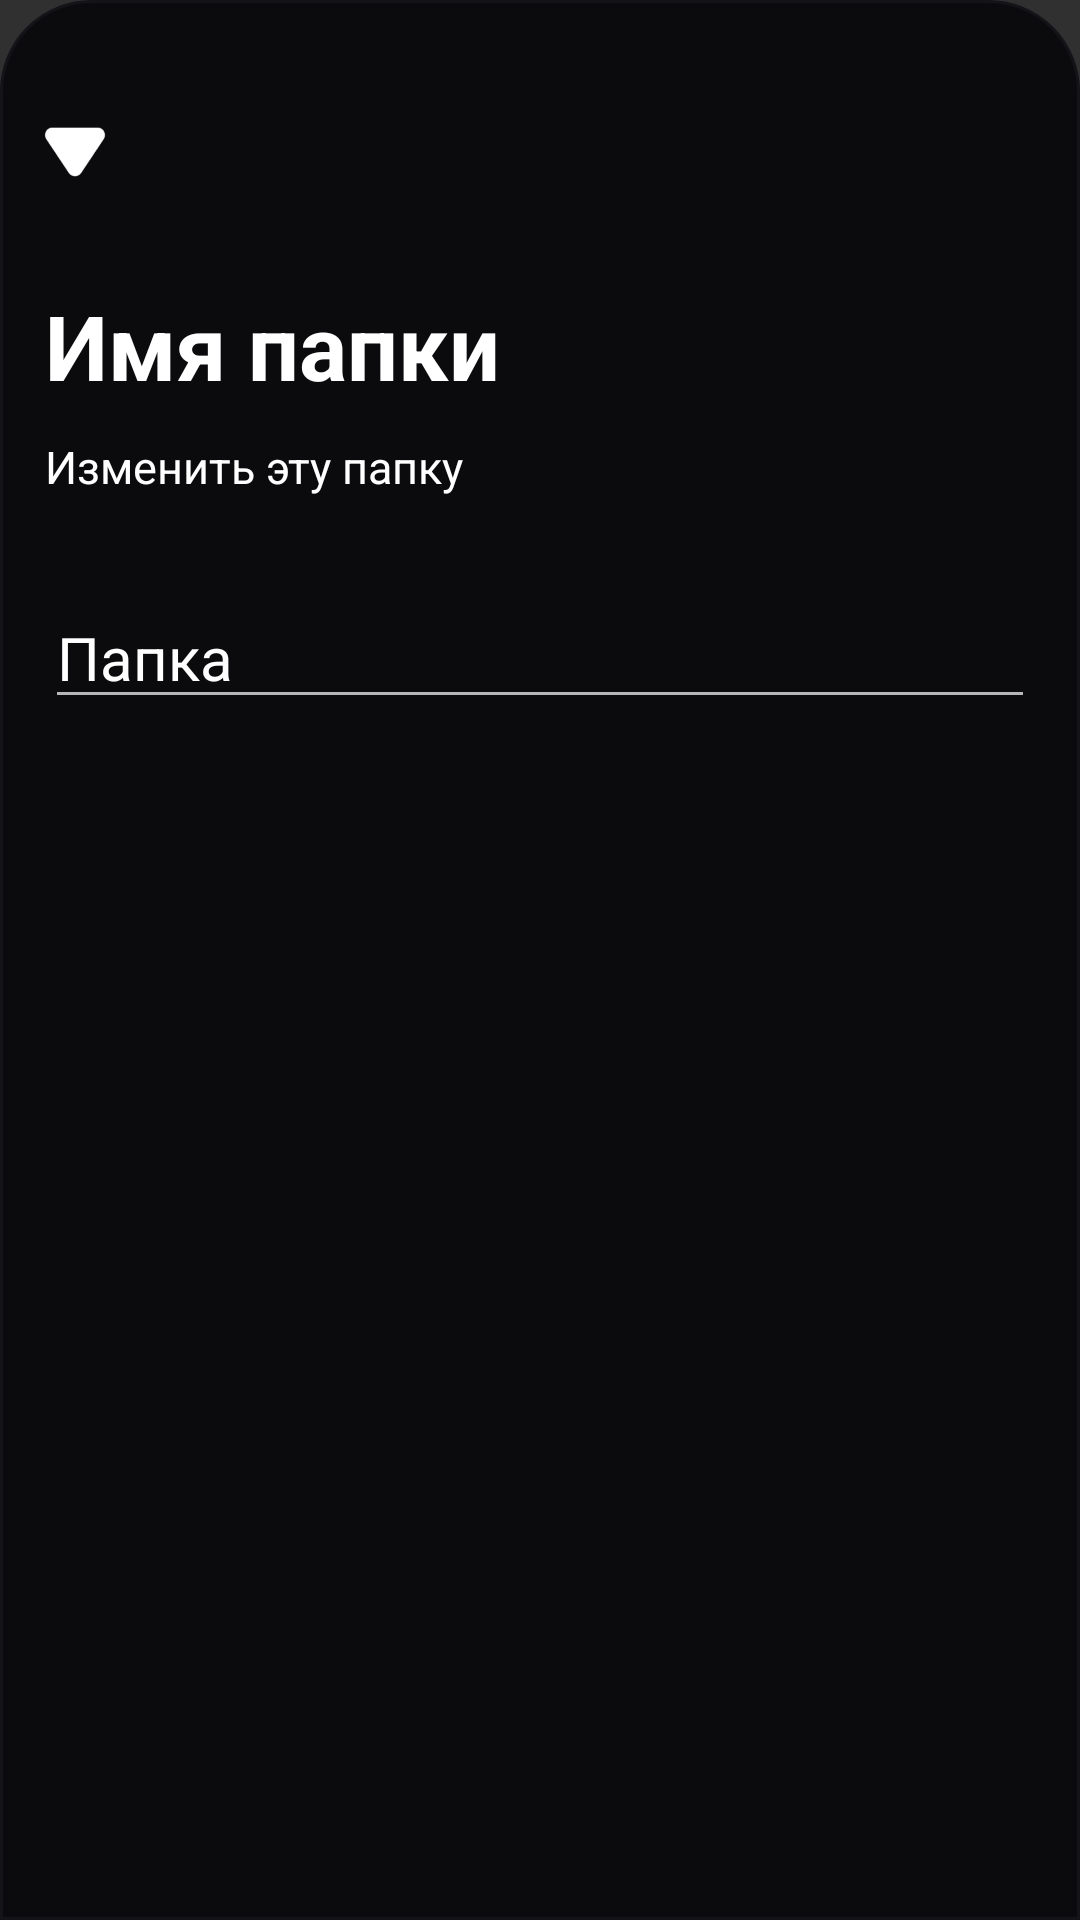

Named icons in this screenshot (1080*1920) and their centers, [x,y]:
arrowdown: [75,152]
